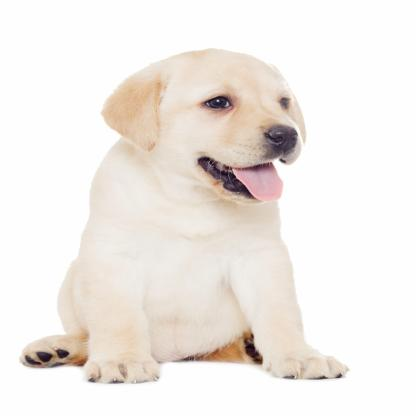Labarador Retriever: (20, 41, 350, 385)
